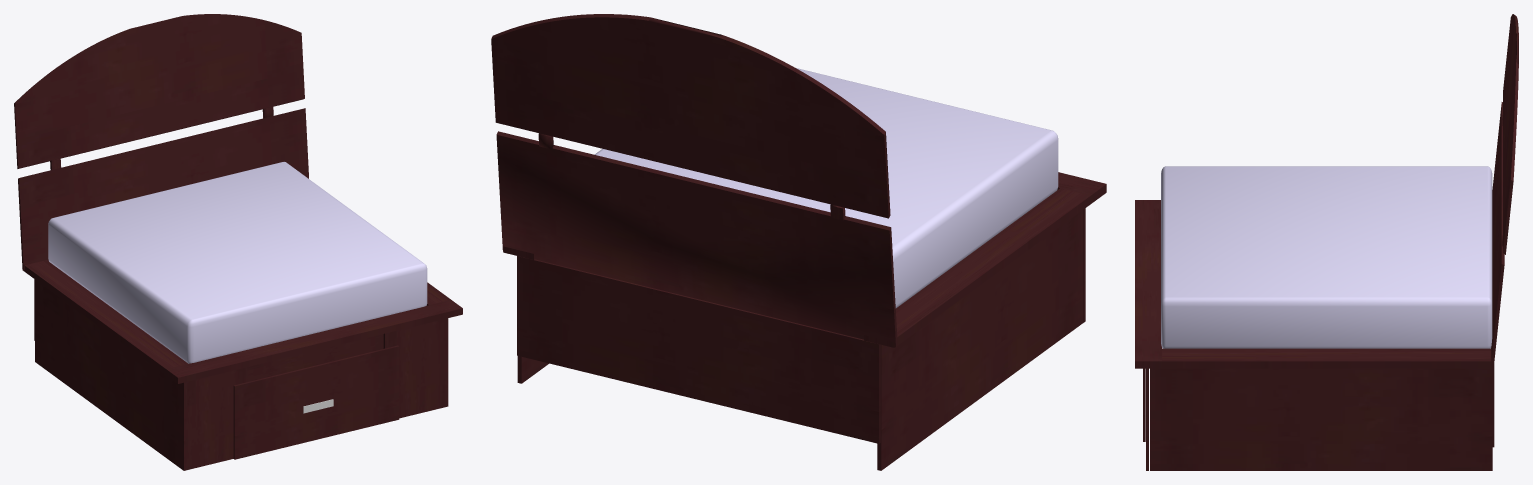
File: sh-contrib-lit.glb
The picture shows the model from 3 angles, left to right: view 1: azimuth 30°, elevation 25°; view 2: azimuth 150°, elevation 25°; view 3: azimuth 270°, elevation 25°; orthographic projection. The views are drawn at different scales.
Parts seen in each view (by area): view 1: Cube_1_1, mattress_18; view 2: Cube_1_1, mattress_18; view 3: mattress_18, Cube_1_1.
Part boxes in pixels (bbox=[...]): Cube_1_1: bbox=[14, 14, 462, 470]; mattress_18: bbox=[48, 161, 427, 363]; Cube_1_1: bbox=[491, 14, 1106, 470]; mattress_18: bbox=[594, 68, 1058, 308]; mattress_18: bbox=[1161, 166, 1492, 348]; Cube_1_1: bbox=[1135, 14, 1518, 470].
Bounding box in the file's own units: 1 × 1 × 1.
Materials: 3 (1 with a texture image).
